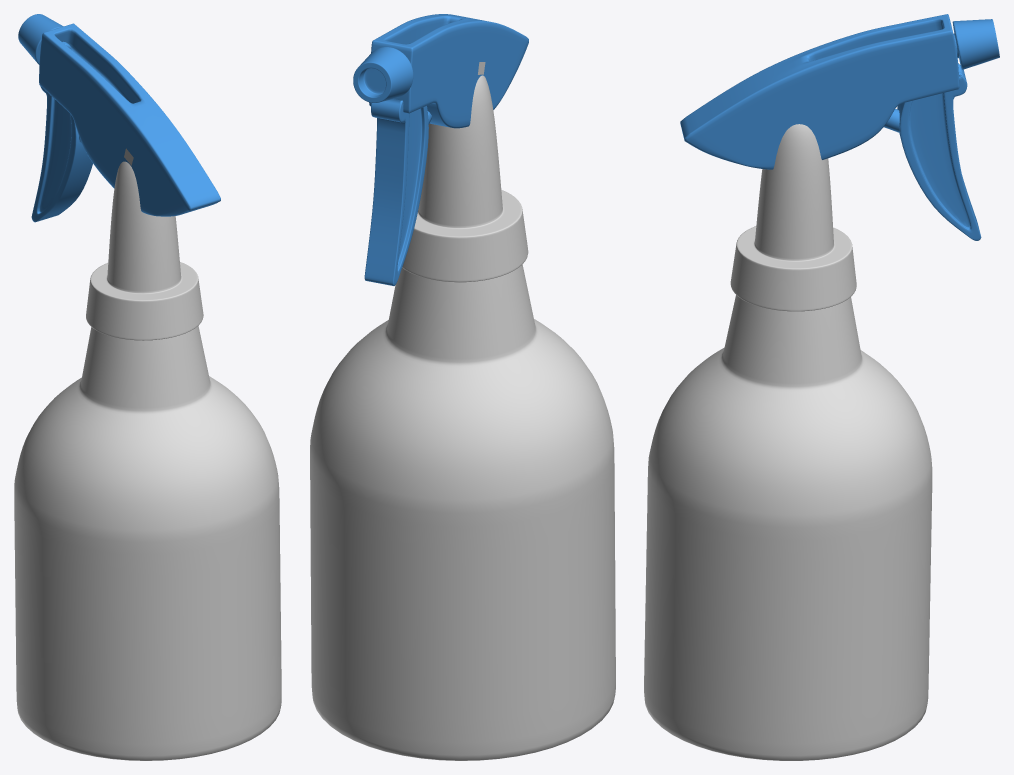
The model's file is SEMPROTAN ALKOHOL 70%.fbx.
3 renders of one model, left to right at view 1: azimuth 30°, elevation 25°; view 2: azimuth 150°, elevation 25°; view 3: azimuth 270°, elevation 25°, orthographic. The views are drawn at different scales.
Parts seen in each view (by area): view 1: 17282_SprayBottle_v1, 17282_SprayBottle_v1.001; view 2: 17282_SprayBottle_v1, 17282_SprayBottle_v1.001; view 3: 17282_SprayBottle_v1, 17282_SprayBottle_v1.001.
Part boxes in pixels (<box>): 17282_SprayBottle_v1: <box>14,14,281,760</box>; 17282_SprayBottle_v1.001: <box>31,86,92,222</box>; 17282_SprayBottle_v1: <box>310,14,615,760</box>; 17282_SprayBottle_v1.001: <box>364,99,428,285</box>; 17282_SprayBottle_v1: <box>644,14,999,760</box>; 17282_SprayBottle_v1.001: <box>897,63,981,240</box>.
Size of the model in its own units: 12.46 by 32.58 by 15.56.
